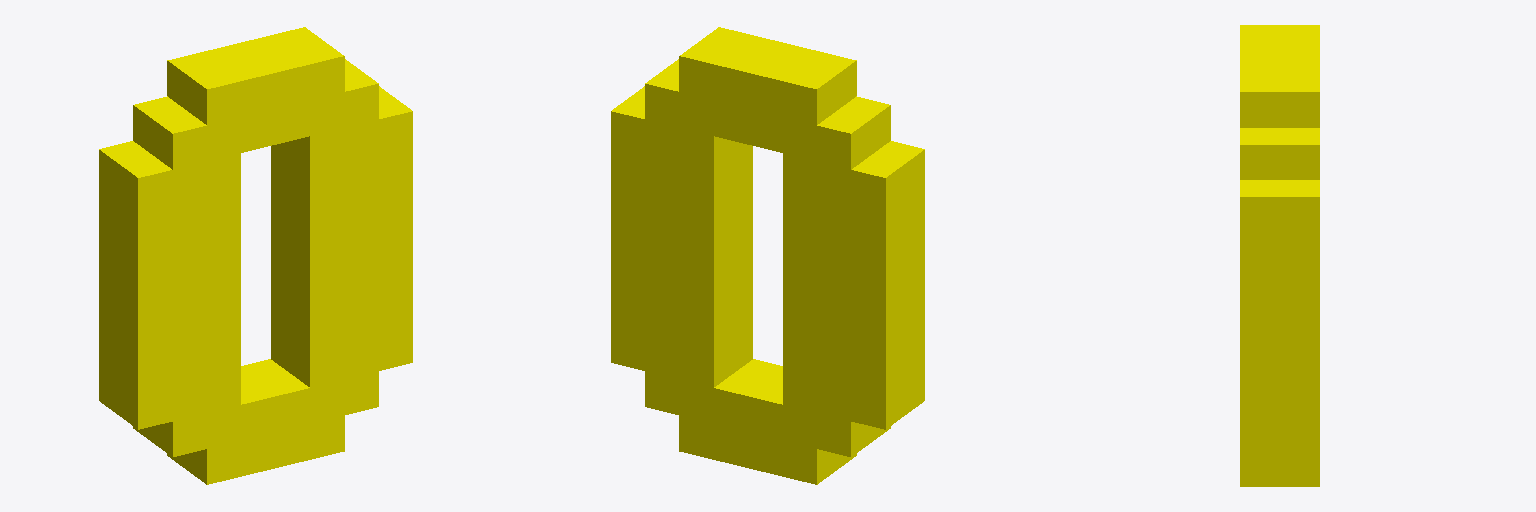
3 renders of one model, left to right at view 1: azimuth 30°, elevation 25°; view 2: azimuth 150°, elevation 25°; view 3: azimuth 270°, elevation 25°, orthographic.
Parts seen in each view (by area): view 1: Model; view 2: Model; view 3: Model.
Part boxes in pixels (x1,y1,x2,y2): Model: (99, 27, 412, 484); Model: (611, 27, 924, 484); Model: (1240, 25, 1319, 486).
Size of the model in its own units: 23.27 by 32 by 5.82.
Materials: 1 (1 with a texture image).